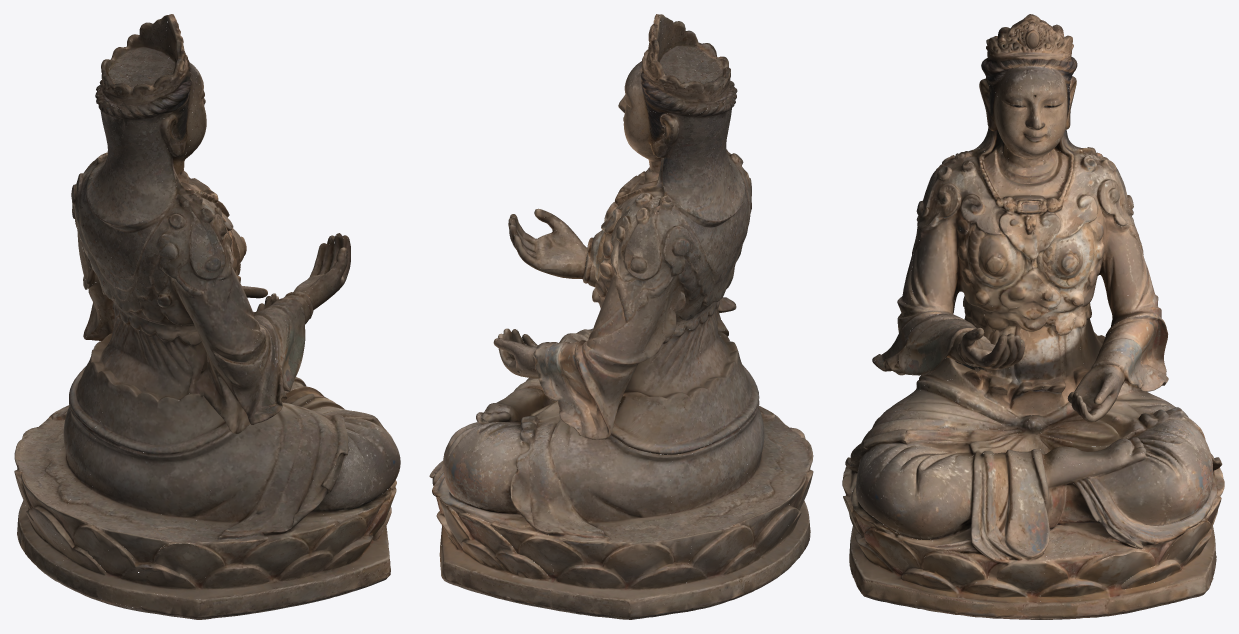
The model's file is f5-kshitigarbha.glb.
The picture shows the model from 3 angles, left to right: view 1: azimuth 30°, elevation 25°; view 2: azimuth 150°, elevation 25°; view 3: azimuth 270°, elevation 25°; orthographic projection. The views are drawn at different scales.
Parts seen in each view (by area): view 1: tripo_node_fef64d3d-dcc7-478e-b543-99bc9e4d0872; view 2: tripo_node_fef64d3d-dcc7-478e-b543-99bc9e4d0872; view 3: tripo_node_fef64d3d-dcc7-478e-b543-99bc9e4d0872.
Boxes of the visible parts, x1,y1,x2,y2 form: tripo_node_fef64d3d-dcc7-478e-b543-99bc9e4d0872: (14, 14, 400, 619); tripo_node_fef64d3d-dcc7-478e-b543-99bc9e4d0872: (429, 14, 813, 619); tripo_node_fef64d3d-dcc7-478e-b543-99bc9e4d0872: (842, 14, 1224, 619).
Size of the model in its own units: 0.6305 by 1 by 0.6667.
1 material, 1 textured.
